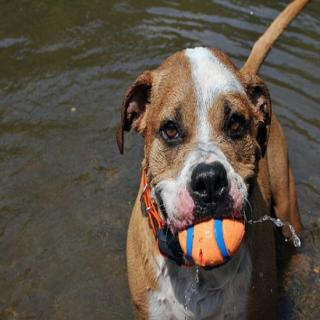dog: (118, 26, 272, 281)
nose: (185, 161, 234, 200)
